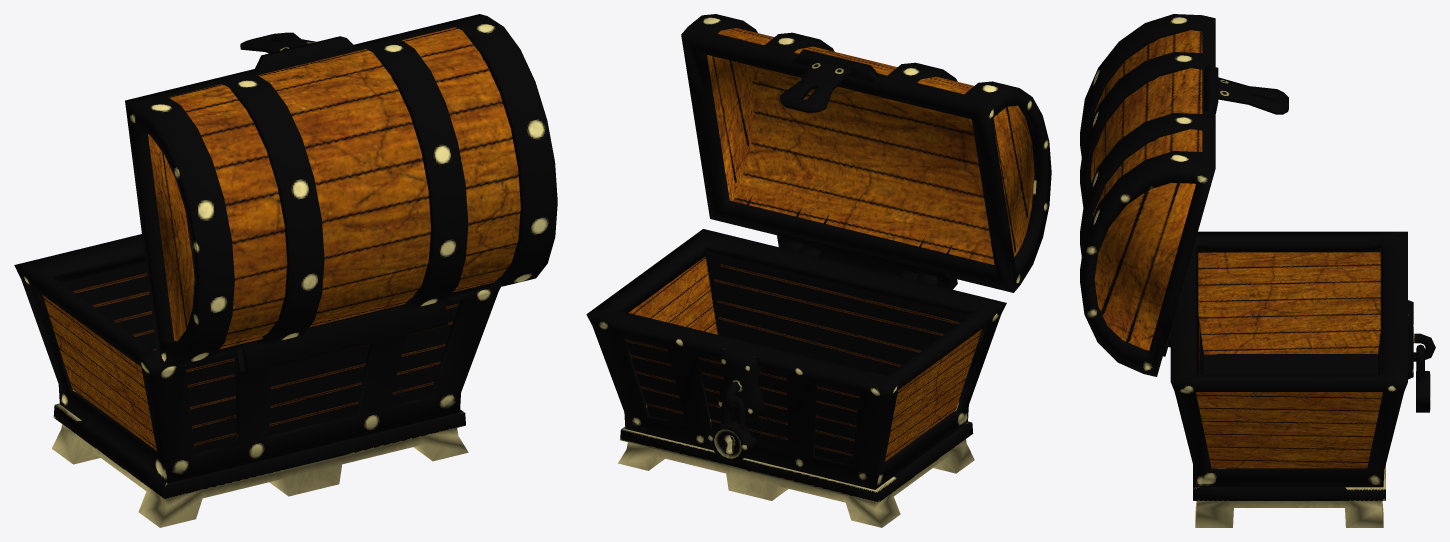
3 views of the same model, side by side, from view 1: azimuth 30°, elevation 25°; view 2: azimuth 150°, elevation 25°; view 3: azimuth 270°, elevation 25° (orthographic). The views are drawn at different scales.
Visible parts, largest first — view 1: box_up, box_down; view 2: box_down, box_up, lock; view 3: box_down, box_up, lock.
Boxes of the visible parts, left/top/right/bottom form: box_up: left=125, top=14, right=557, bottom=373; box_down: left=14, top=234, right=500, bottom=527; box_down: left=586, top=229, right=1006, bottom=527; box_up: left=681, top=14, right=1051, bottom=292; lock: left=706, top=420, right=756, bottom=462; box_down: left=1168, top=231, right=1435, bottom=527; box_up: left=1080, top=14, right=1288, bottom=376; lock: left=1416, top=371, right=1430, bottom=412.
Bounding box in the file's own units: 3 × 3.54 × 3.
Materials: 1 (1 with a texture image).
